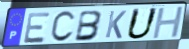B: (73, 10, 104, 43)
C: (49, 10, 77, 44)
E: (22, 11, 52, 45)
H: (151, 6, 186, 41)
K: (104, 10, 128, 40)
U: (125, 7, 160, 41)
